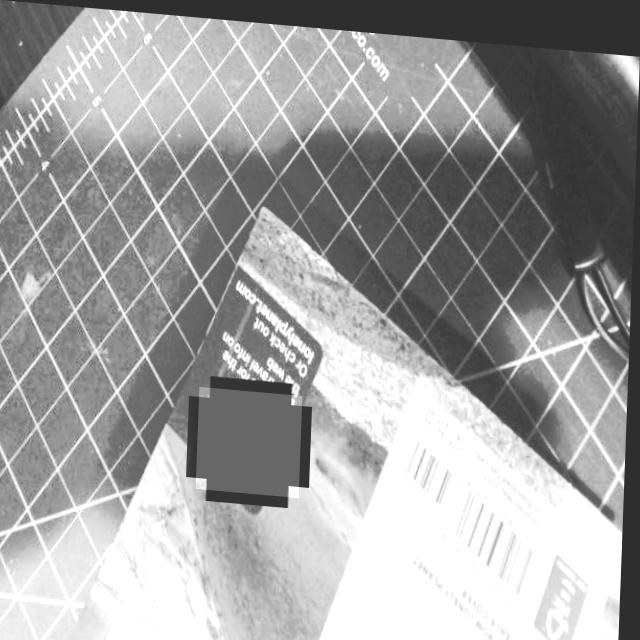qr_code: (199, 383, 305, 492)
